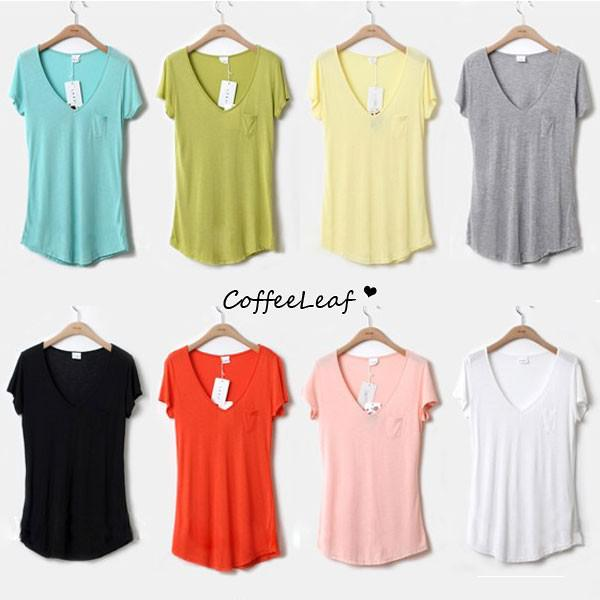Tops: (458, 44, 593, 268), (162, 343, 292, 566), (12, 341, 144, 560), (13, 45, 144, 265), (313, 41, 438, 266), (463, 345, 586, 565), (312, 347, 434, 567), (163, 45, 283, 257)
